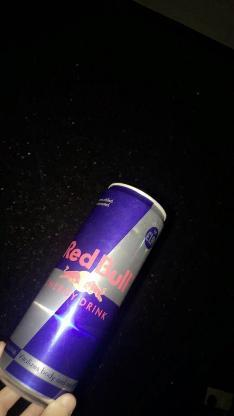Can: (0, 182, 168, 414)
